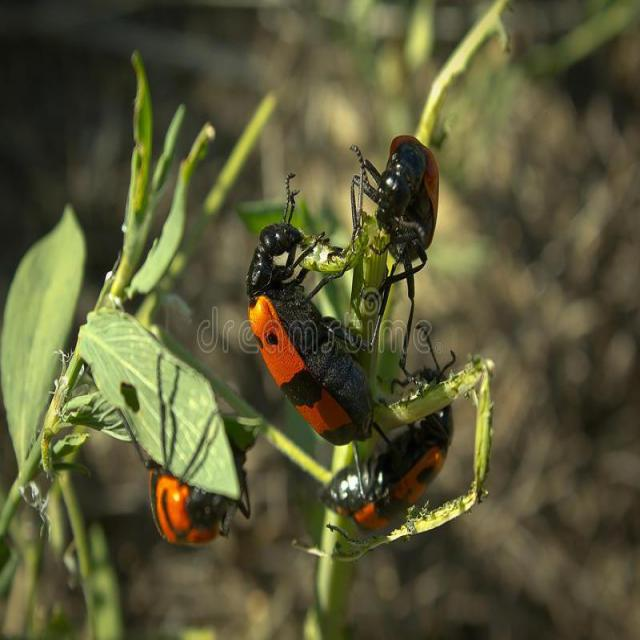BlisterBeetle-Adult-: (237, 163, 380, 442)
